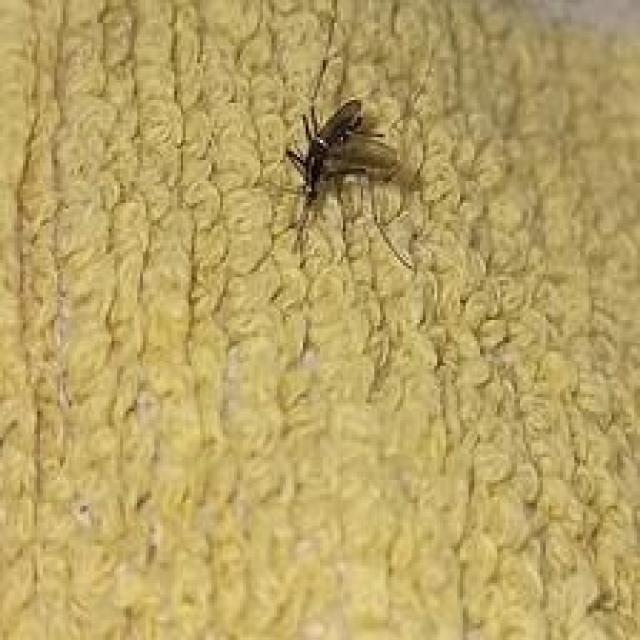Aedes albopictus: (282, 96, 424, 273)
